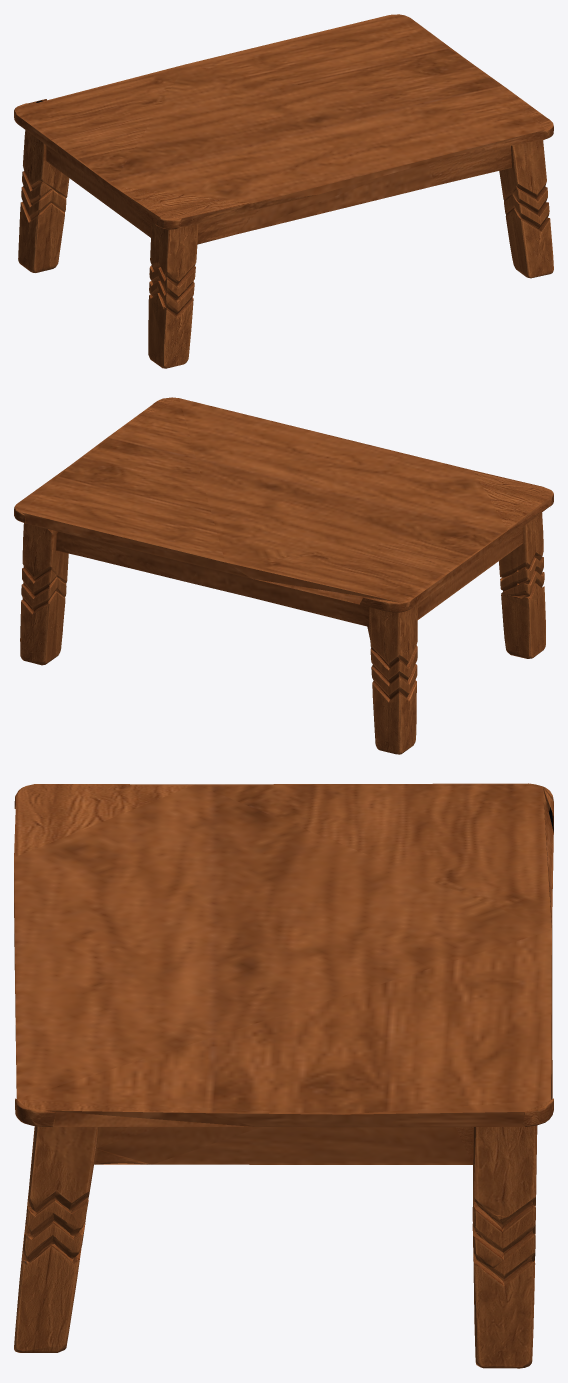
Rendered from low-table.glb.
The picture shows the model from 3 angles, top to bottom: view 1: azimuth 30°, elevation 25°; view 2: azimuth 150°, elevation 25°; view 3: azimuth 270°, elevation 25°; orthographic projection. The views are drawn at different scales.
Visible parts, largest first — view 1: output_unwrapped; view 2: output_unwrapped; view 3: output_unwrapped.
Part boxes in pixels (x1,y1,x2,y2): output_unwrapped: (14,14,553,368); output_unwrapped: (14,397,553,754); output_unwrapped: (14,783,553,1368).
Bounding box in the file's own units: 1.9 × 0.7098 × 1.32.
1 material, 1 textured.
